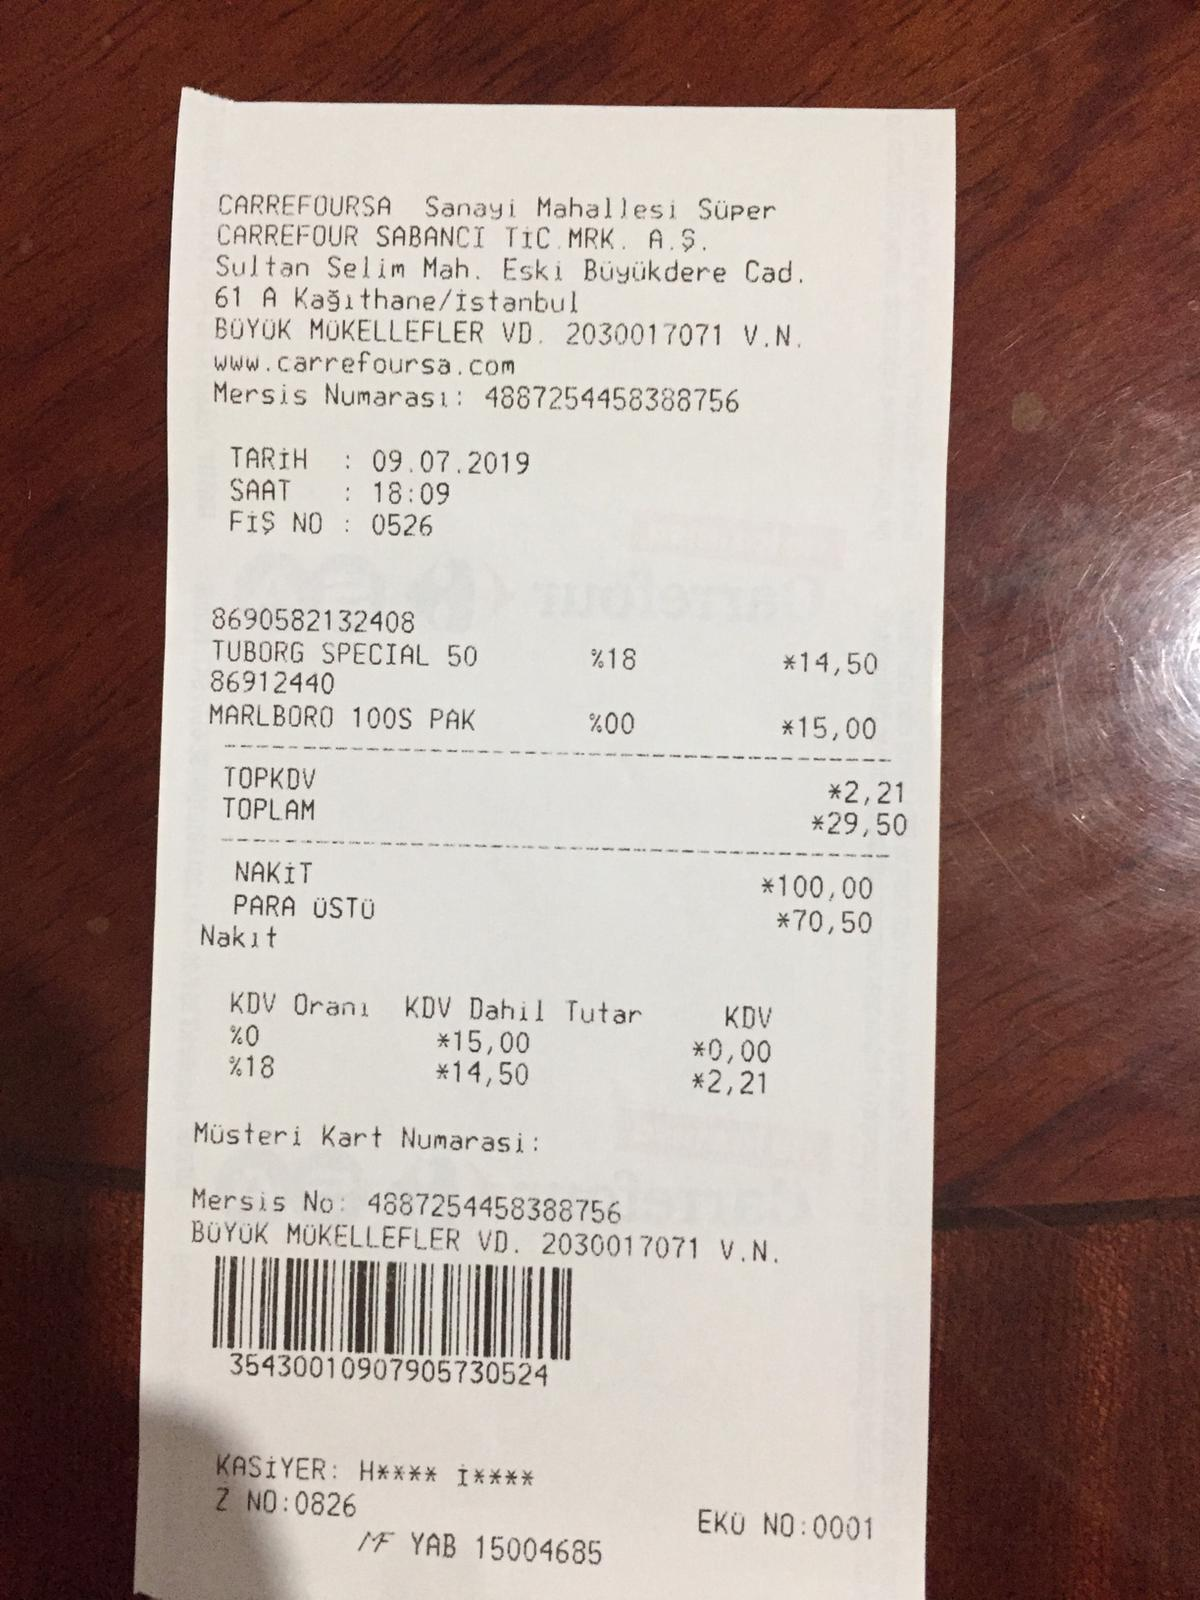total: (218, 789, 924, 840)
